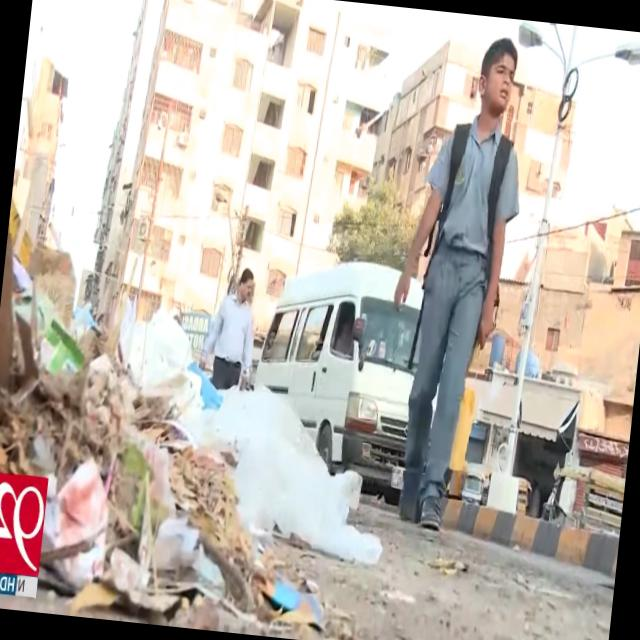high trash: (0, 234, 381, 636)
less trash: (430, 556, 468, 575)
